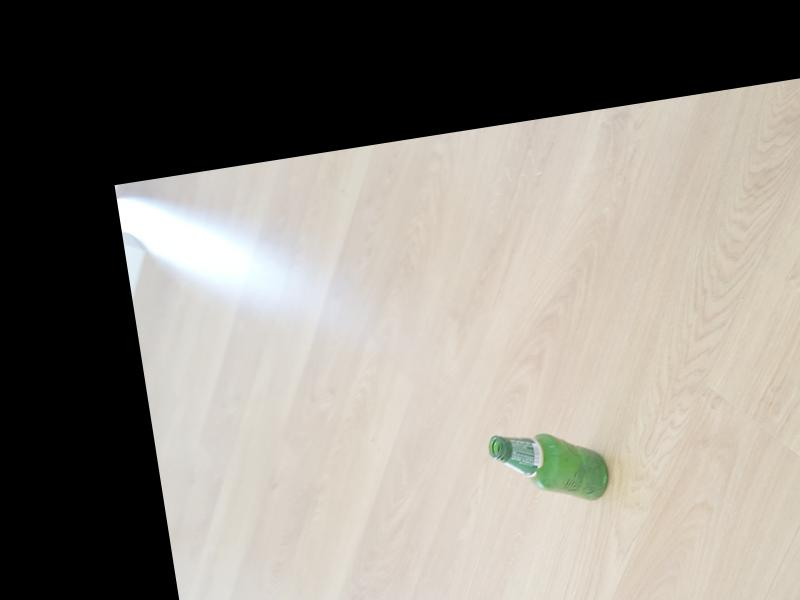Beer: (489, 419, 611, 511)
